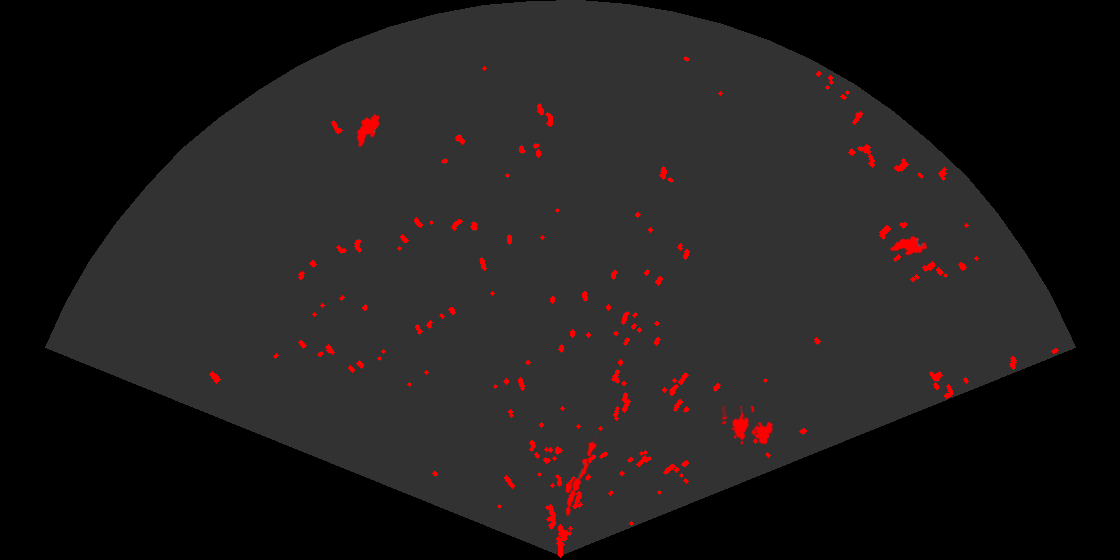AUV: (355, 112, 382, 149), (888, 234, 929, 257)
cage: (722, 406, 775, 446)
chain: (564, 434, 599, 518)
